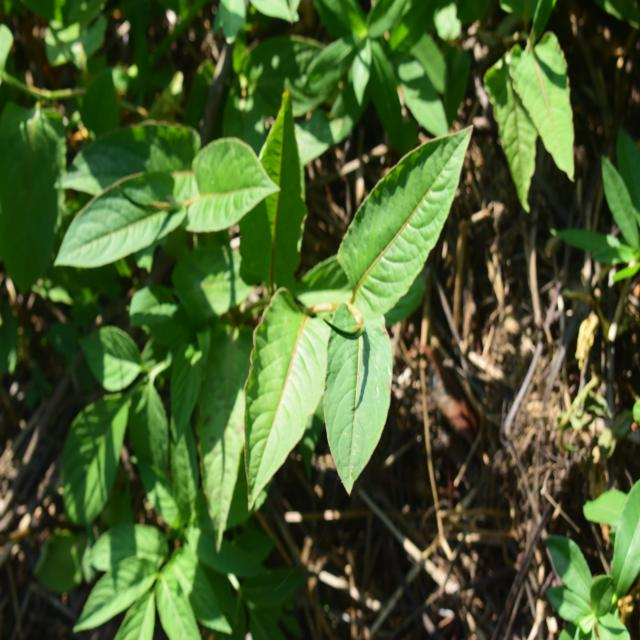Chinese_knotweed: (230, 126, 460, 488), (40, 125, 275, 262)
